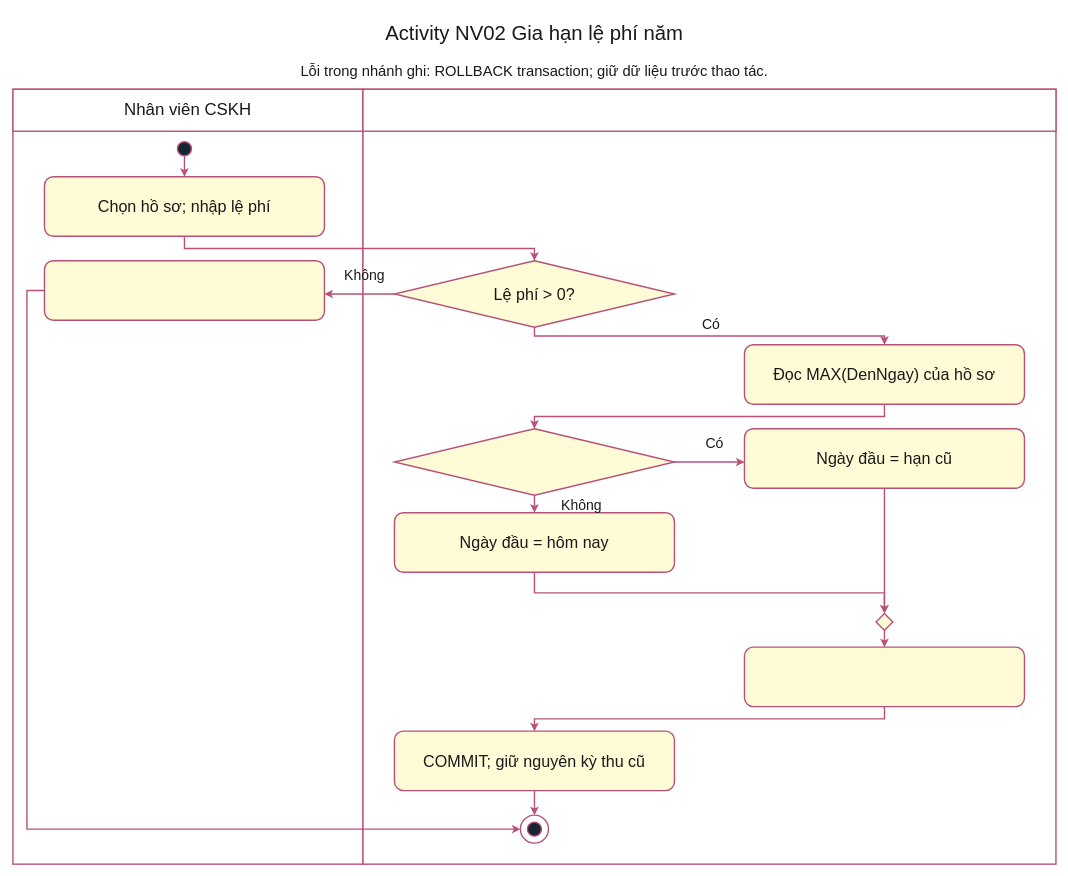
The diagram is 1068 pixels wide and 876 high, and some of its shapes have lost their labels. Here are the shapes that lost their labels. From the top down, the box of each, then its label:
(362, 88, 1056, 132): Ứng dụng và SQL Server
(43, 260, 325, 321): Từ chối lệ phí không dương
(393, 428, 675, 496): Hạn cũ còn ở tương lai?
(743, 646, 1025, 707): Ghi kỳ mới: ngày đầu đến cùng ngày năm sau
